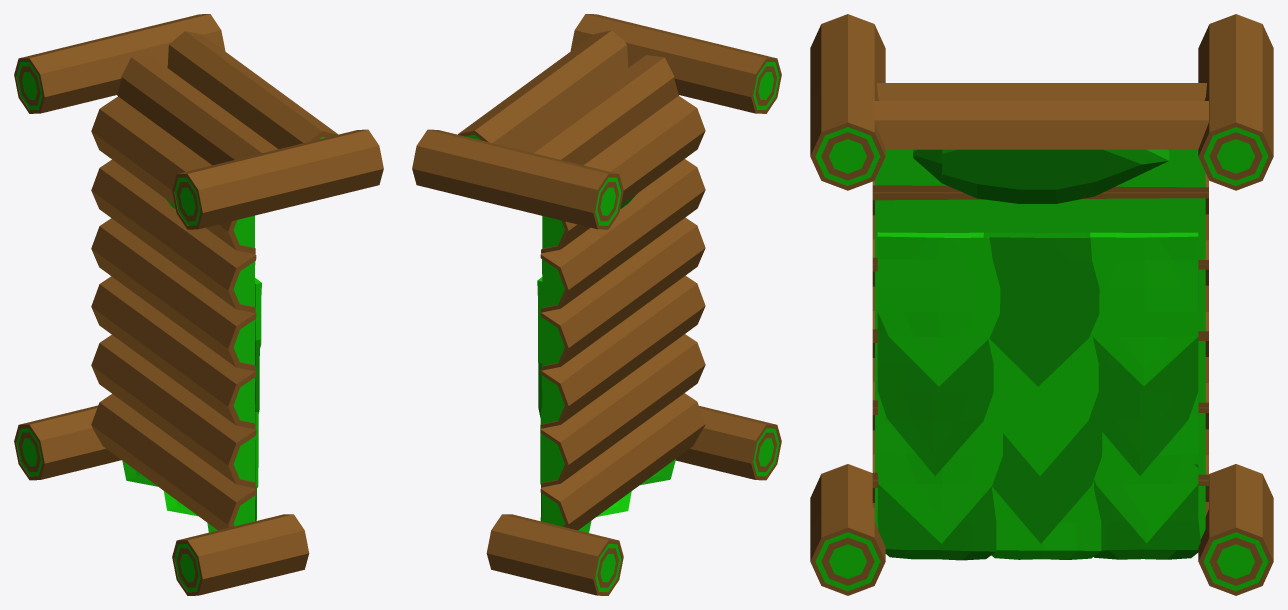
Rendered from Bed.fbx.
3 renders of one model, left to right at view 1: azimuth 30°, elevation 25°; view 2: azimuth 150°, elevation 25°; view 3: azimuth 270°, elevation 25°, orthographic. The views are drawn at different scales.
Visible parts, largest first — view 1: Torus.015, Torus.014; view 2: Torus.015, Torus.014; view 3: Torus.014, Torus.015.
Boxes of the visible parts, <box> form: Torus.015: <box>14,14,383,595</box>; Torus.014: <box>122,199,261,532</box>; Torus.015: <box>412,14,781,595</box>; Torus.014: <box>537,193,675,532</box>; Torus.014: <box>877,149,1200,560</box>; Torus.015: <box>810,14,1273,595</box>.
Bounding box in the file's own units: 777 × 959 × 431.
